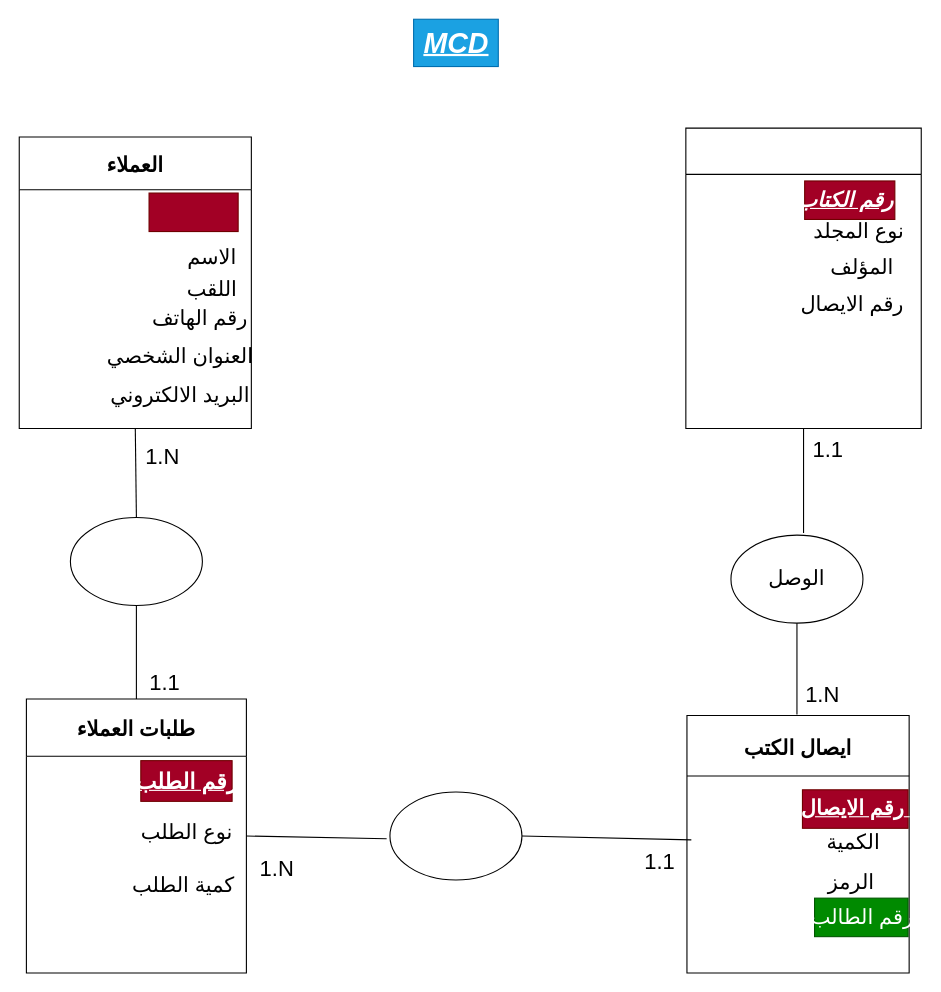
Some shapes in this 941 by 992 pixel diagram are drawn without their labels. The box of each missing label's shape, as (x1, y1, x2, y2) in pixels:
الطلب: (389, 791, 522, 880)
رقم العميل: (148, 192, 238, 232)
مخزن المكتبة: (685, 127, 921, 428)
يستقبل: (69, 516, 202, 606)
